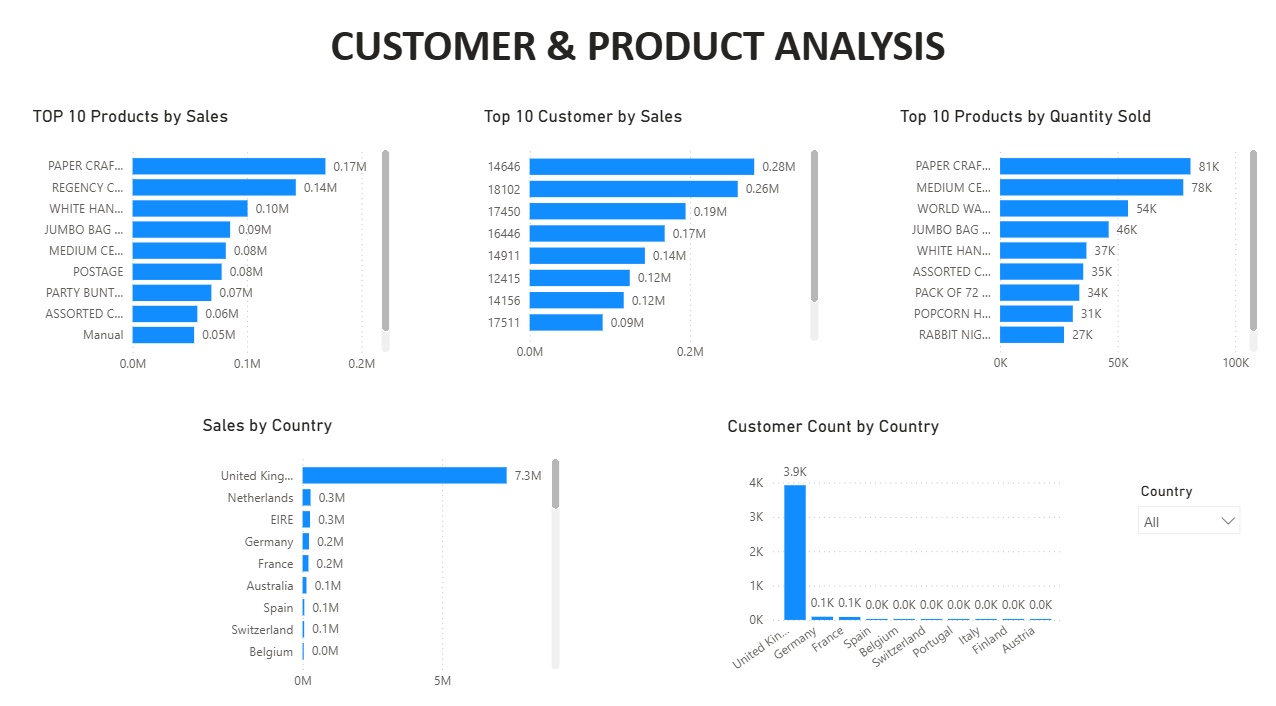

The page's visual inventory and layout, read from the dashboard file:
{"tool":"powerbi","page":{"name":"Customer & Product Analysis","canvas":[1280,720],"ordinal":1},"visuals":[{"type":"clusteredBarChart","title":"TOP 10 Products by Sales","fields":{"Category":["e-commerce_data.Description"],"Y":["e-commerce_data.Total Sales"]},"box":[46.7,115.3,359.5,270.3],"z":0},{"type":"textbox","box":[32.9,24.7,1221.3,61.7],"z":1000},{"type":"clusteredBarChart","title":"Top 10 Customer by Sales ","fields":{"Category":["e-commerce_data.CustomerID"],"Y":["e-commerce_data.Customer Sales"]},"box":[488.5,115.3,337.6,259.3],"z":2000},{"type":"clusteredBarChart","title":"Top 10 Products by Quantity Sold","fields":{"Category":["e-commerce_data.Description"],"Y":["e-commerce_data.Total Quantity"]},"box":[894.7,115.3,360,270],"z":3000},{"type":"clusteredBarChart","title":"Sales by Country","fields":{"Category":["e-commerce_data.Country"],"Y":["e-commerce_data.Total Sales"]},"box":[212.7,417.2,359.5,278.6],"z":4000},{"type":"clusteredColumnChart","fields":{"Category":["e-commerce_data.Country"],"Y":["e-commerce_data.Customer Count"]},"box":[725.9,418.5,338,279],"z":5000},{"type":"slicer","fields":{"Values":["e-commerce_data.Country"]},"box":[1122.5,477.5,120.8,81],"z":6000}]}

Visuals, with their boxes in screenshot pixels (x1, y1, x2, y2), scaled from the page's 1280x720 canvas onto the 1276x706 screenshot:
"TOP 10 Products by Sales" clusteredBarChart: BBox(47, 113, 405, 378)
textbox: BBox(33, 24, 1250, 85)
"Top 10 Customer by Sales " clusteredBarChart: BBox(487, 113, 824, 367)
"Top 10 Products by Quantity Sold" clusteredBarChart: BBox(892, 113, 1251, 378)
"Sales by Country" clusteredBarChart: BBox(212, 409, 570, 682)
clusteredColumnChart - e-commerce_data.Country x e-commerce_data.Customer Count: BBox(724, 410, 1061, 684)
slicer - e-commerce_data.Country: BBox(1119, 468, 1239, 548)
